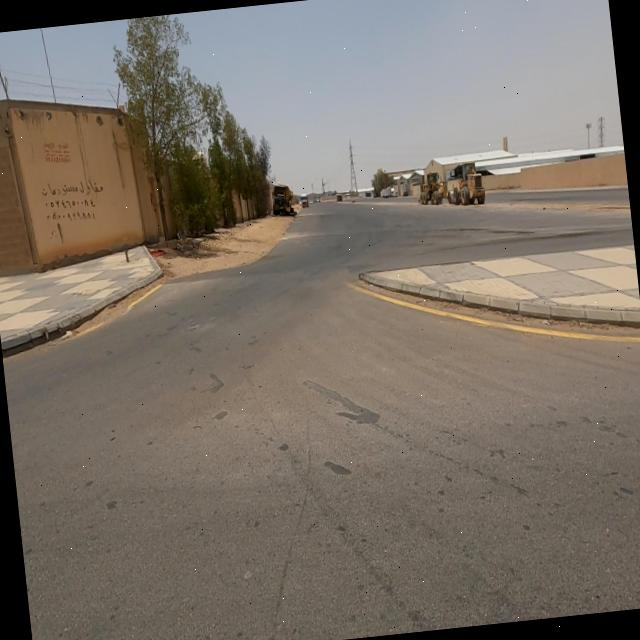Graffiti: (38, 177, 108, 228), (43, 135, 71, 166)
